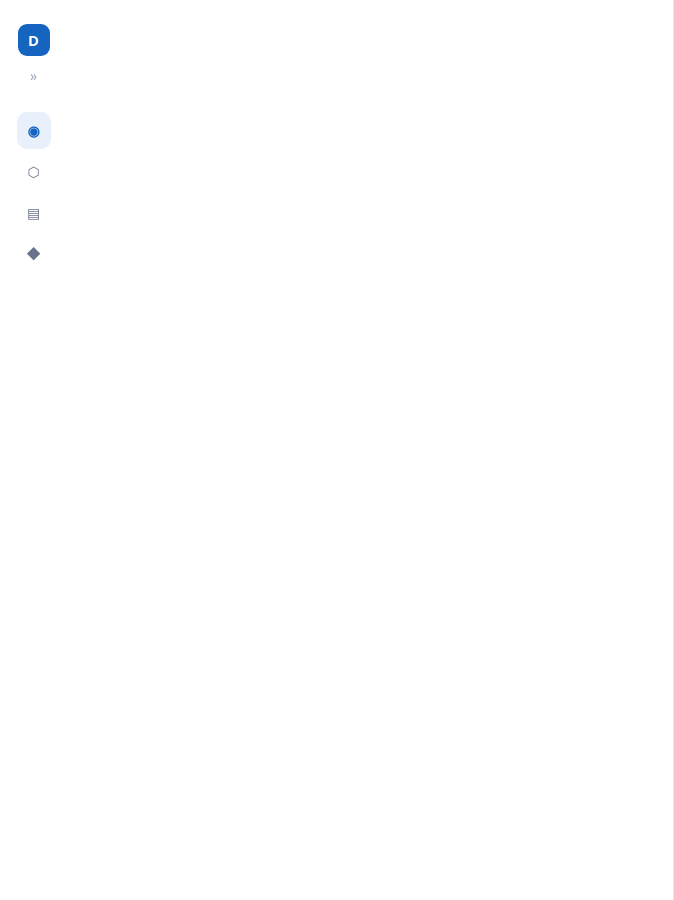
it: collapsed to a rail › opens a group on click and closes it again
This screenshot has width=674, height=900.
Click the button named "Monitoring": (34, 130) x1=16 y1=112 x2=50 y2=149
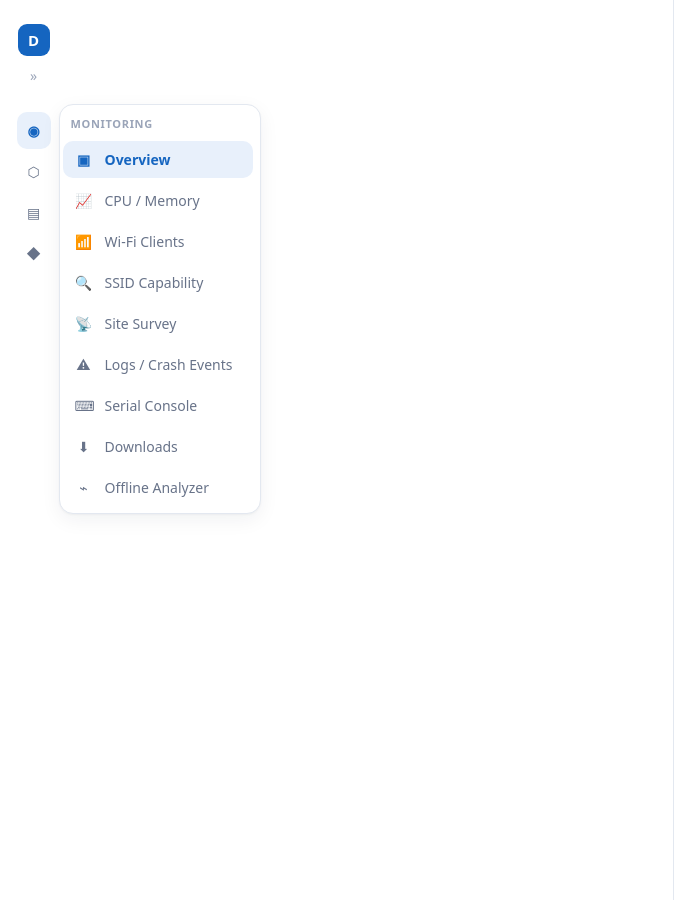
Result: the button "⌨ Serial Console" is shown at x1=62 y1=386 x2=252 y2=424
Click the button named "Monitoring": (34, 130) x1=16 y1=112 x2=50 y2=149
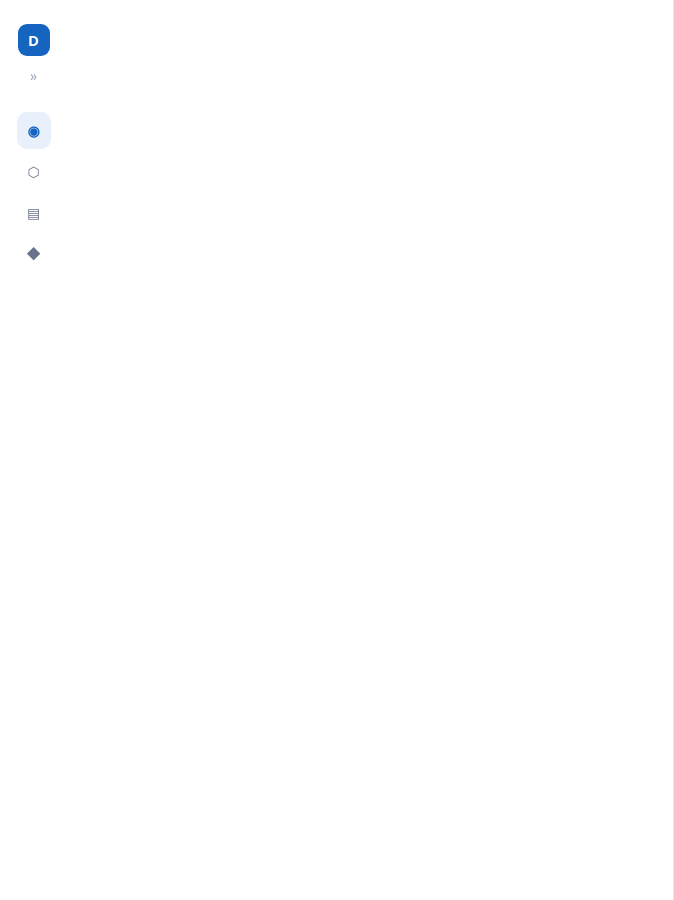
Result: the button "Serial Console" is gone
